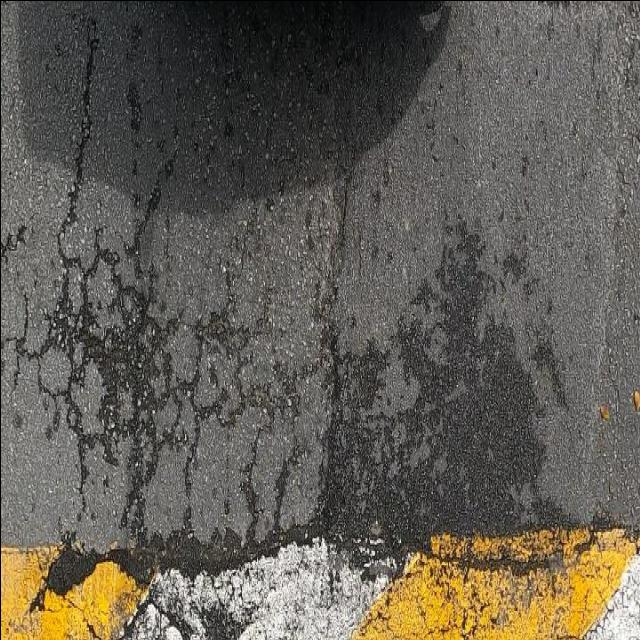cracks: (0, 71, 290, 548), (0, 524, 637, 638)
